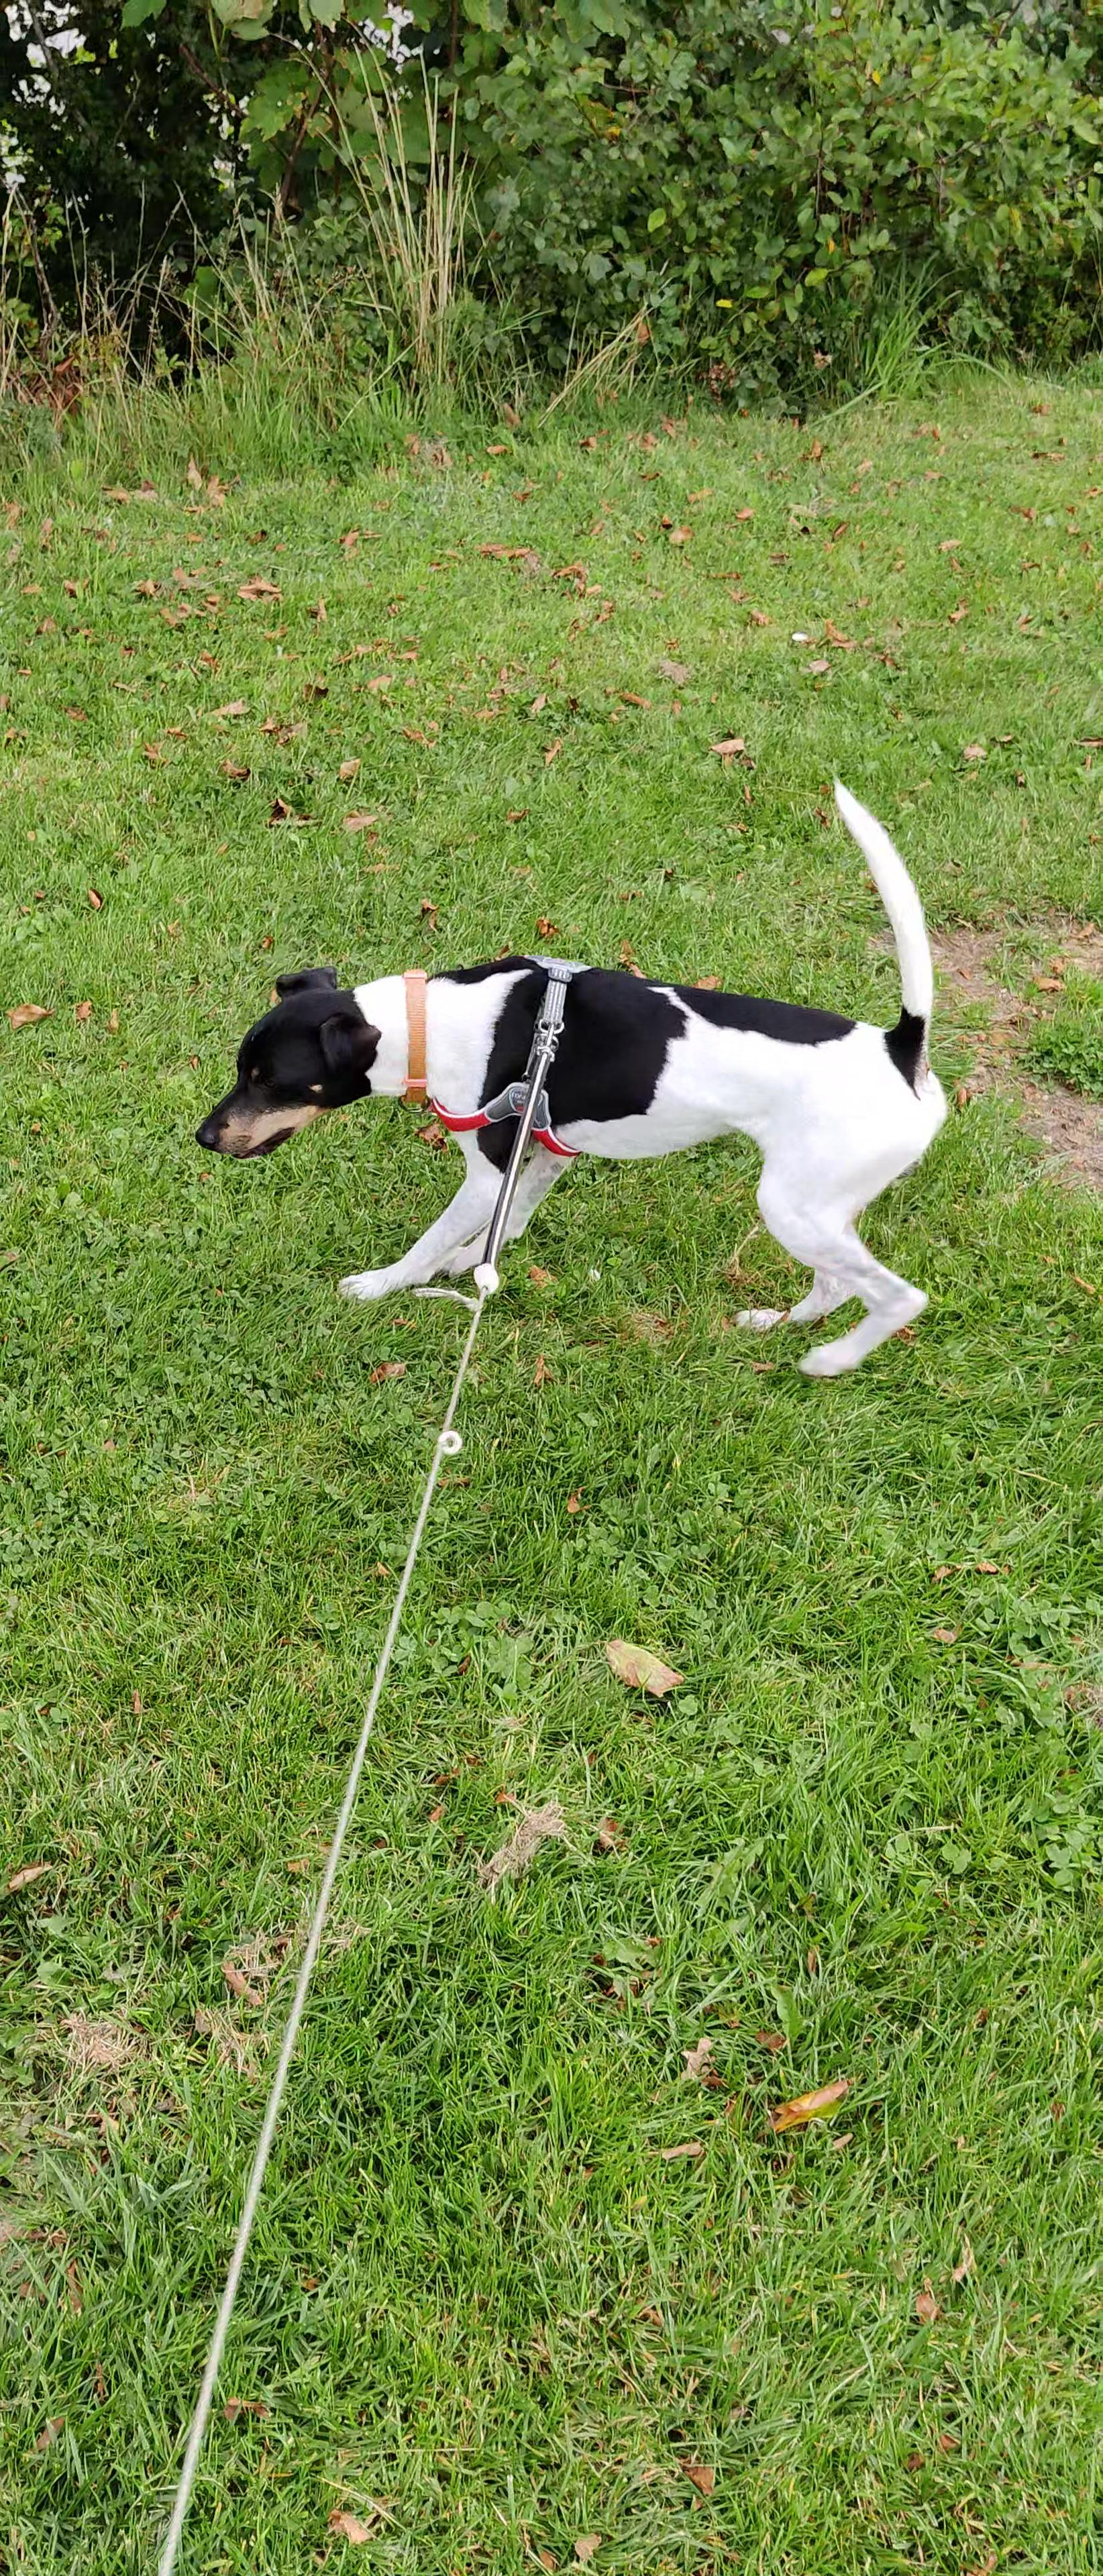Dog: (179, 761, 960, 1396)
